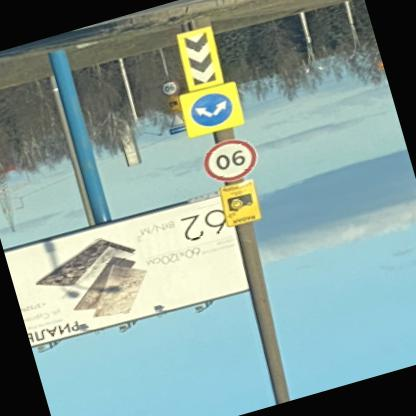speedlimit: (202, 134, 264, 186), (162, 80, 181, 97)
